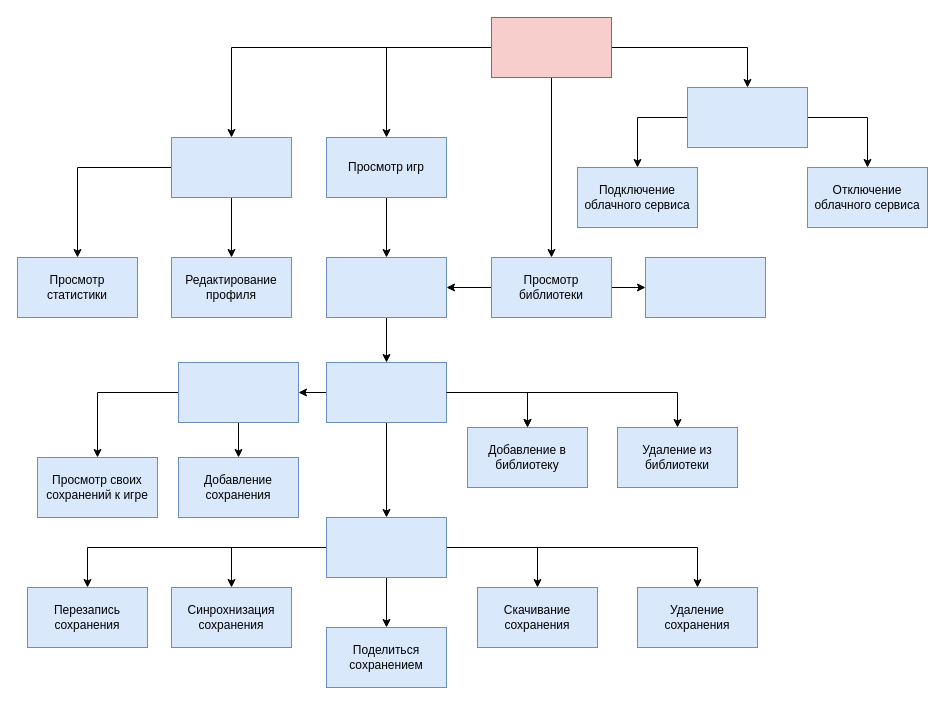
Some shapes in this 945 by 705 pixel diagram are drawn without their labels. The centre of each missing label's shape, as x and y in pixels:
"Добавление сторонней игры" goes at (x=705, y=287).
"Пользователь" goes at (x=551, y=47).
"Просмотр конкретной игры" goes at (x=386, y=287).
"Просмотр облачных сервисов" goes at (x=747, y=117).
"Просмотр своего профиля" goes at (x=231, y=167).
"Работа с игрой" goes at (x=386, y=392).
"Работа с конкретным сохранением" goes at (x=386, y=547).
"Работа с сохранениями" goes at (x=238, y=392).
